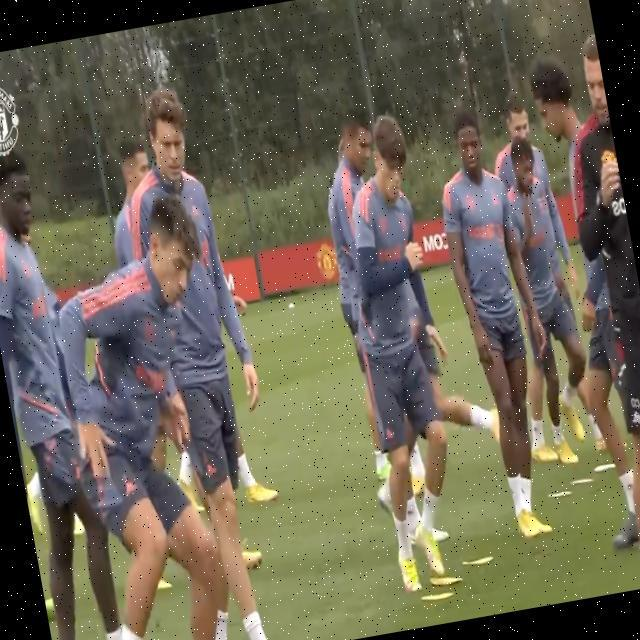Adidas: (123, 476, 138, 496), (204, 460, 217, 477), (383, 425, 395, 442), (629, 409, 640, 426)
